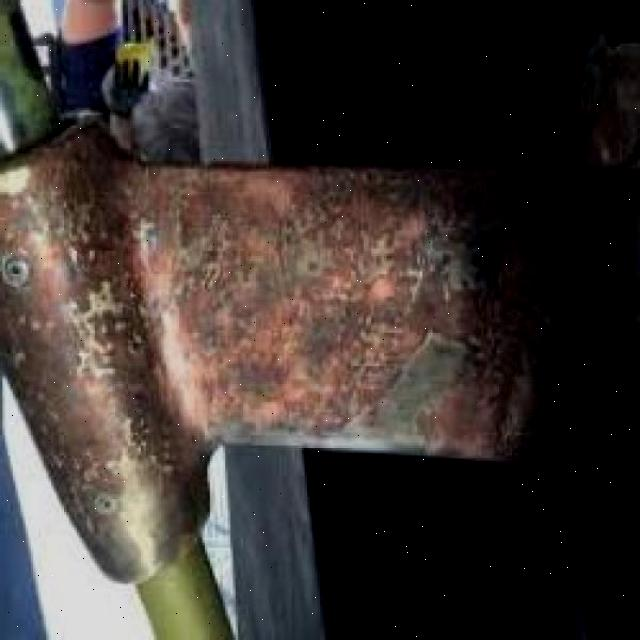corrosion: (0, 138, 640, 498)
